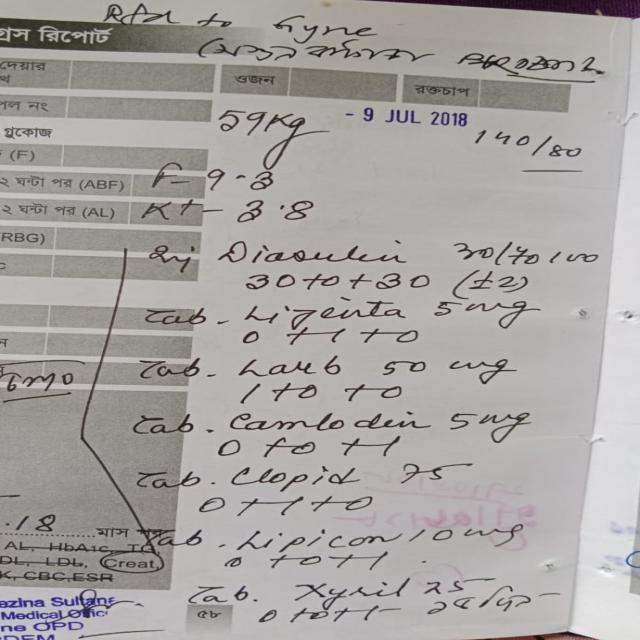medicine: (209, 232, 424, 276), (229, 295, 421, 334), (216, 404, 434, 438), (224, 524, 418, 556), (220, 460, 376, 492), (285, 573, 424, 606), (224, 351, 354, 384)
